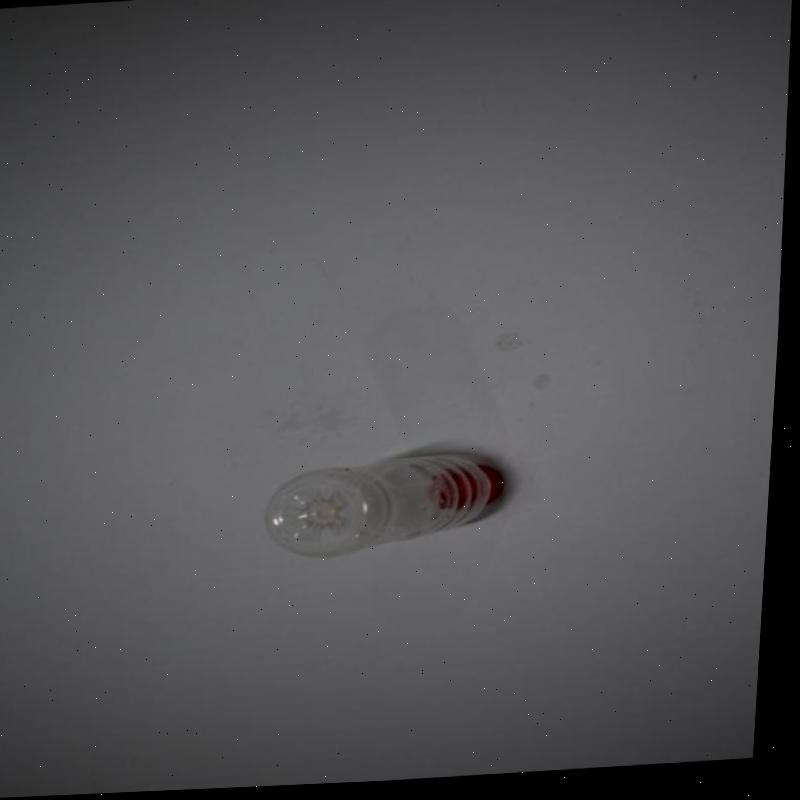botella: (264, 456, 512, 563)
